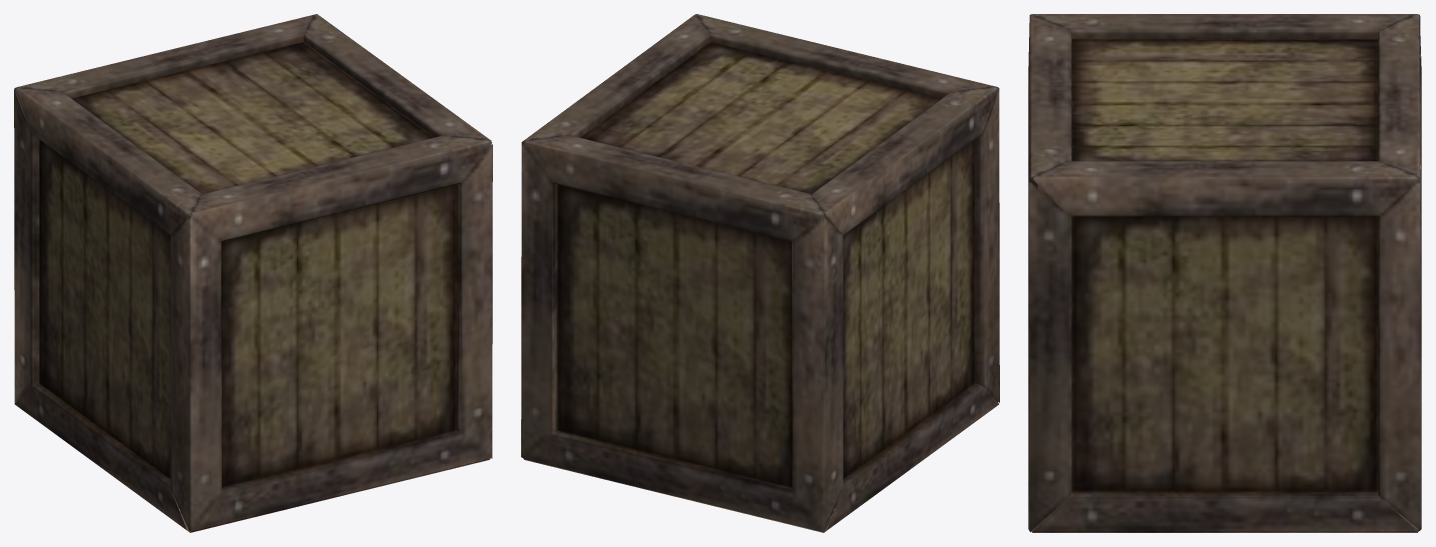
The model's file is bigcrate_lo.glb.
3 renders of one model, left to right at view 1: azimuth 30°, elevation 25°; view 2: azimuth 150°, elevation 25°; view 3: azimuth 270°, elevation 25°, orthographic. The views are drawn at different scales.
Visible parts, largest first — view 1: merged; view 2: merged; view 3: merged.
Boxes of the visible parts, x1,y1,x2,y2 form: merged: [14, 14, 492, 532]; merged: [521, 14, 999, 532]; merged: [1028, 14, 1421, 532].
Size of the model in its own units: 0.2402 by 0.2402 by 0.2402.
Materials: 1 (1 with a texture image).
